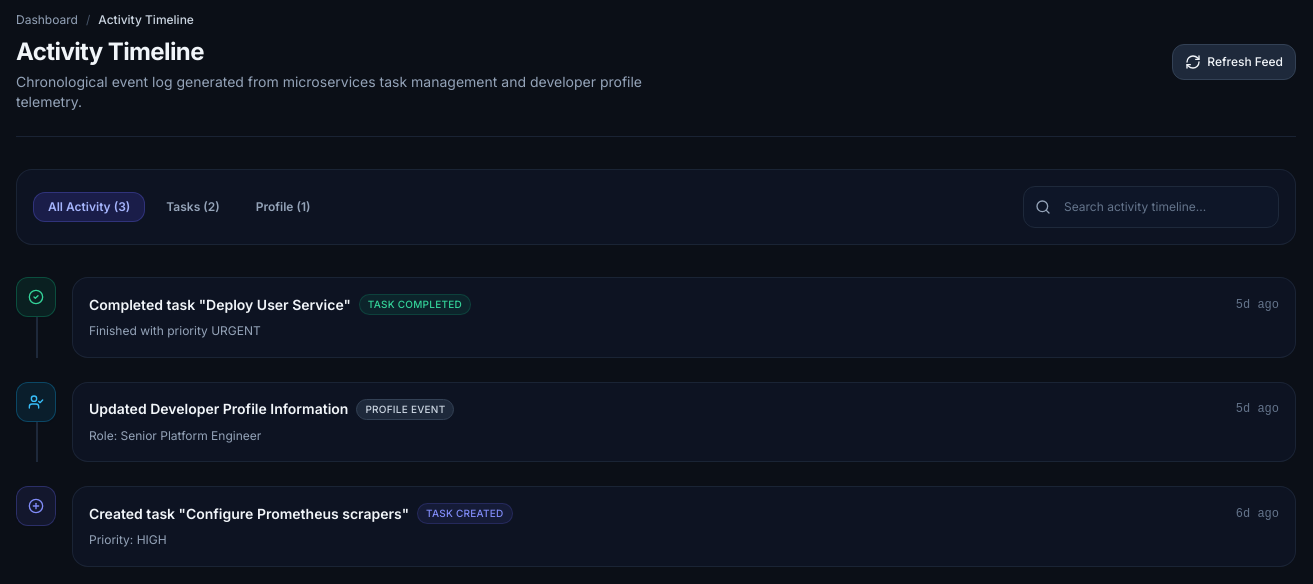
ActivityPage › filters activity events by category button selection
Check: the heading "Completed task \"Deploy User Service\"" is shown, box [89,294,351,314]
Note: Filter Profile only
Click the button "Profile (1)" at (283, 207), box [241,192,325,222]
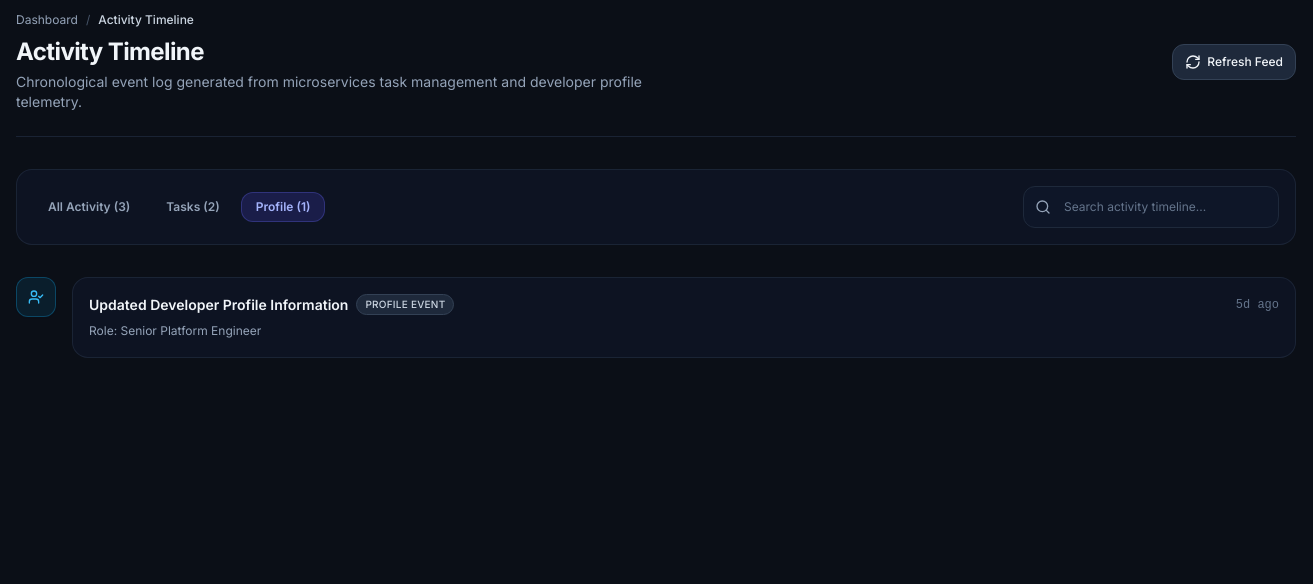
Check: the heading "Updated Developer Profile Information" is shown, box [89,294,348,314]
Check: the heading "Completed task \"Deploy User Service\"" is gone
